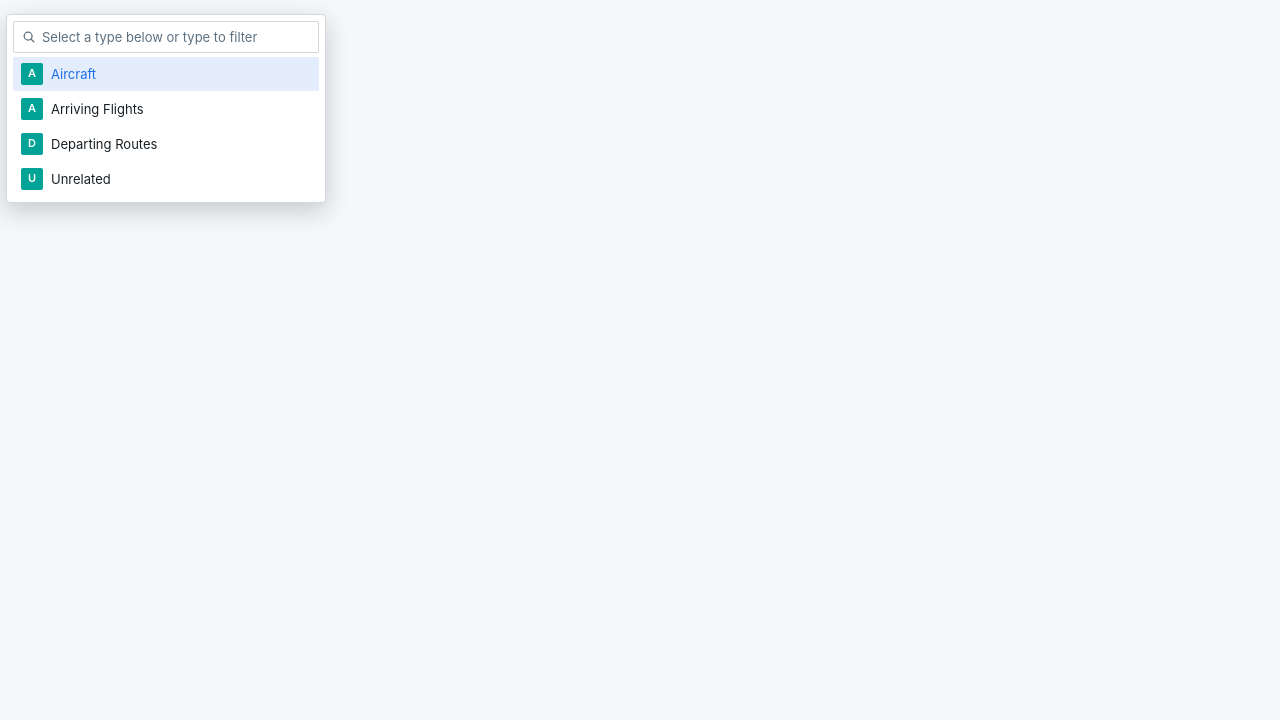
Test case: SearchAroundPopover › filters the list as the user types
Type "depart" into the field with placeholder "Select a type below or type to filter" at (176, 37), box [42,28,310,46]
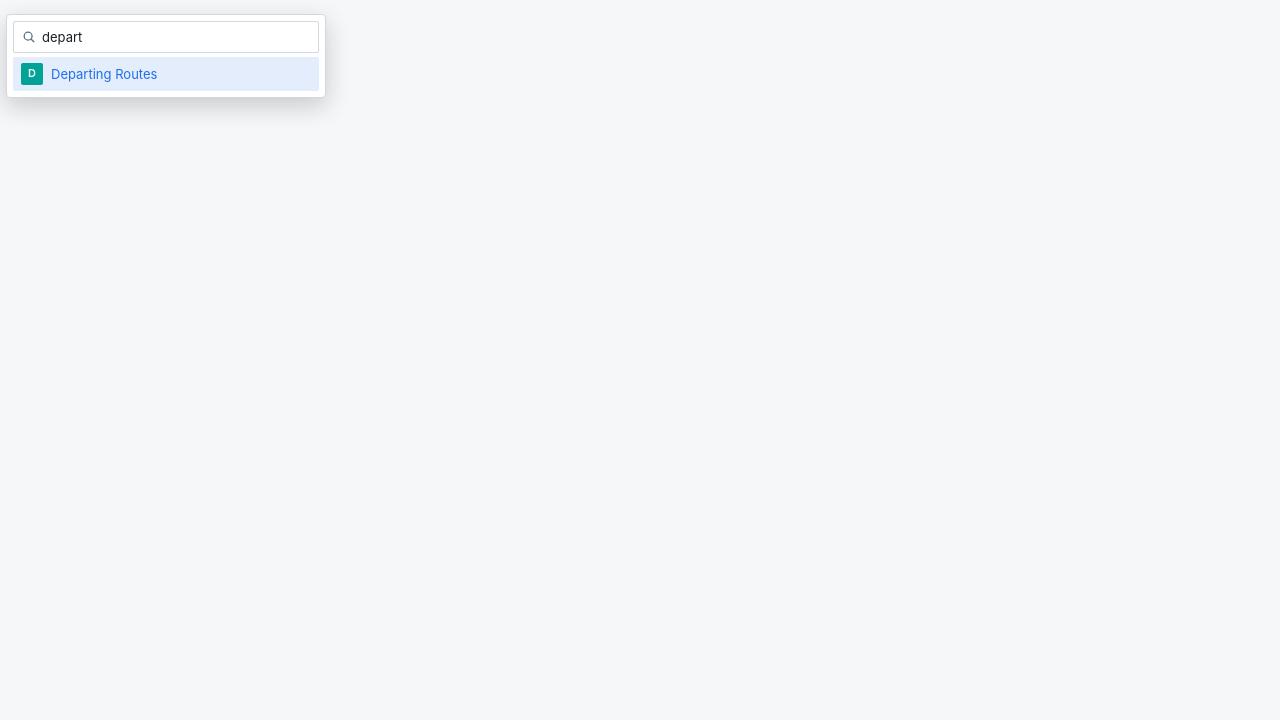
Expected: the option shows "Departing Routes", [13,57,319,91]
Result: the number of options is 1 at [13,57,319,91]
